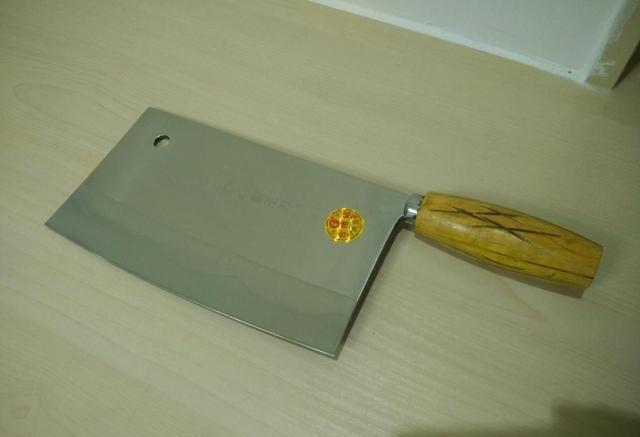knief: (74, 87, 603, 369)
